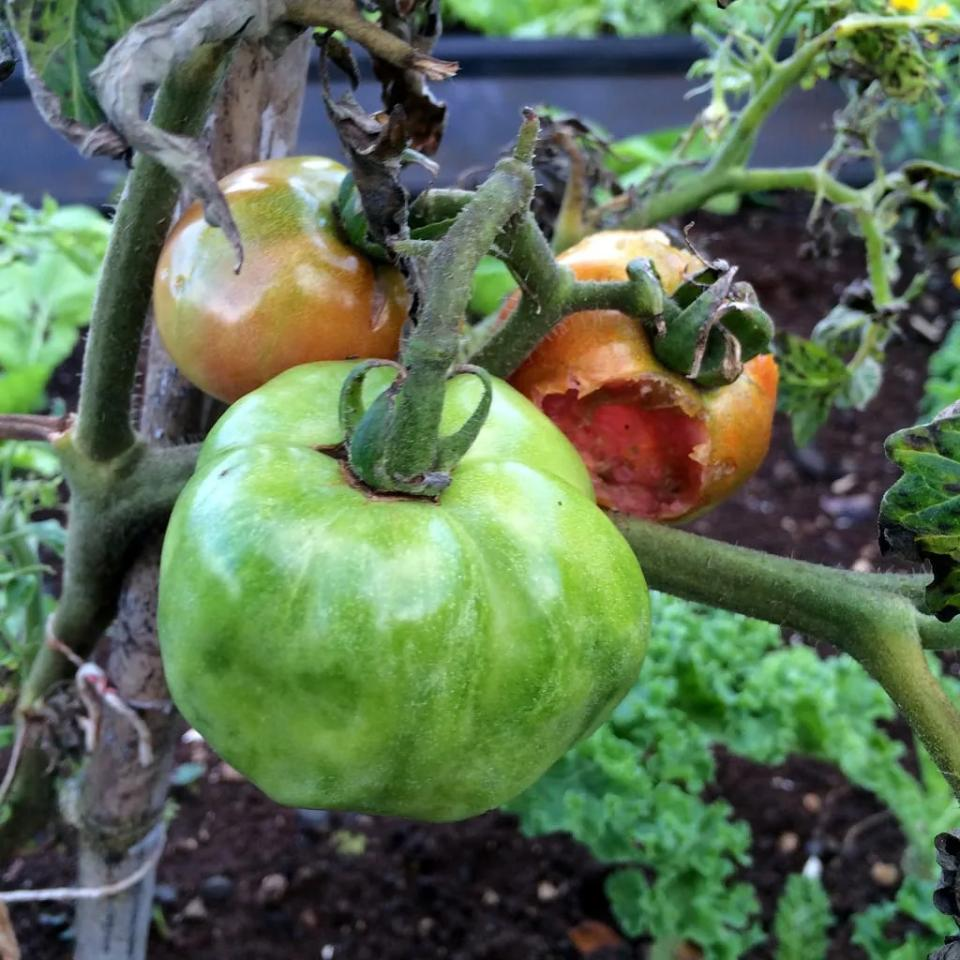Spotted wilt Virus: (156, 358, 655, 824), (506, 226, 780, 522), (154, 148, 424, 401)
